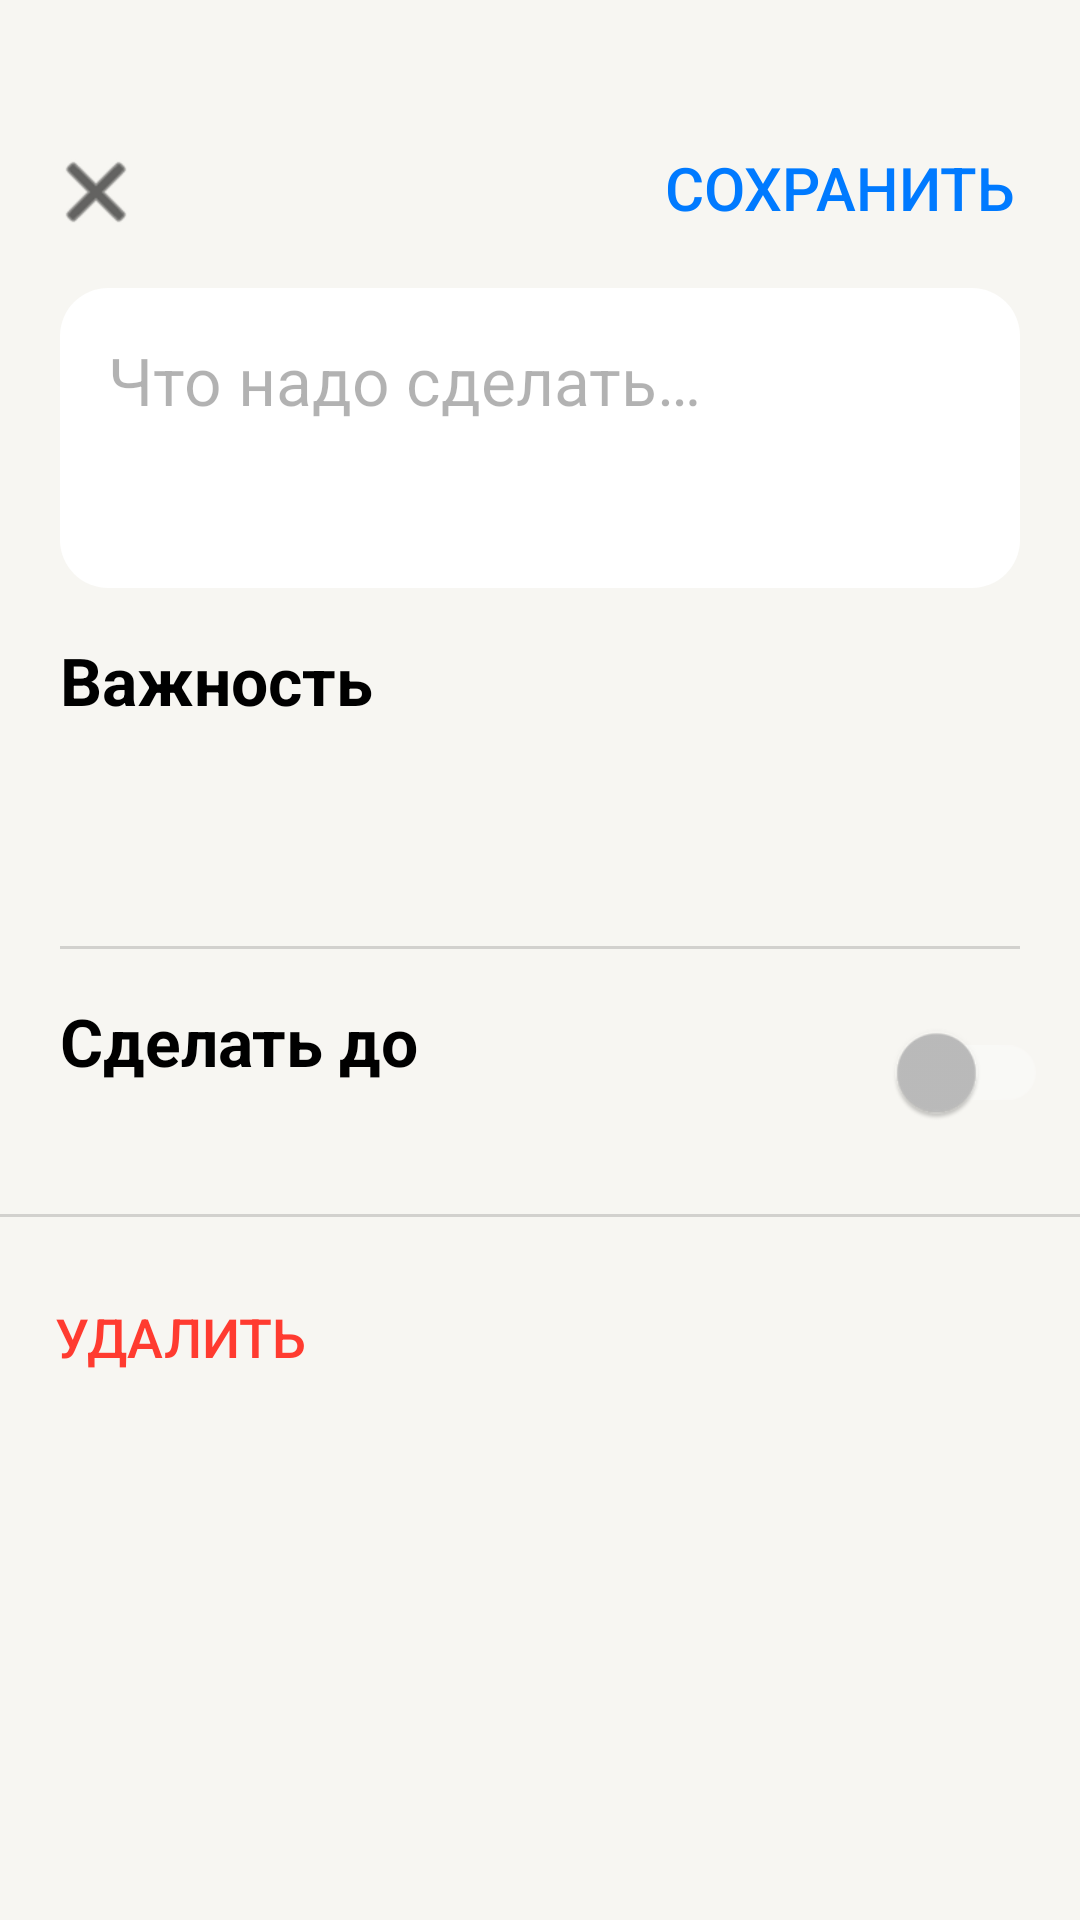

Icons on this 1080 × 1920 Android screen, each with its box as (x1, y1, x2, y2):
Close: (66, 162, 126, 222)
